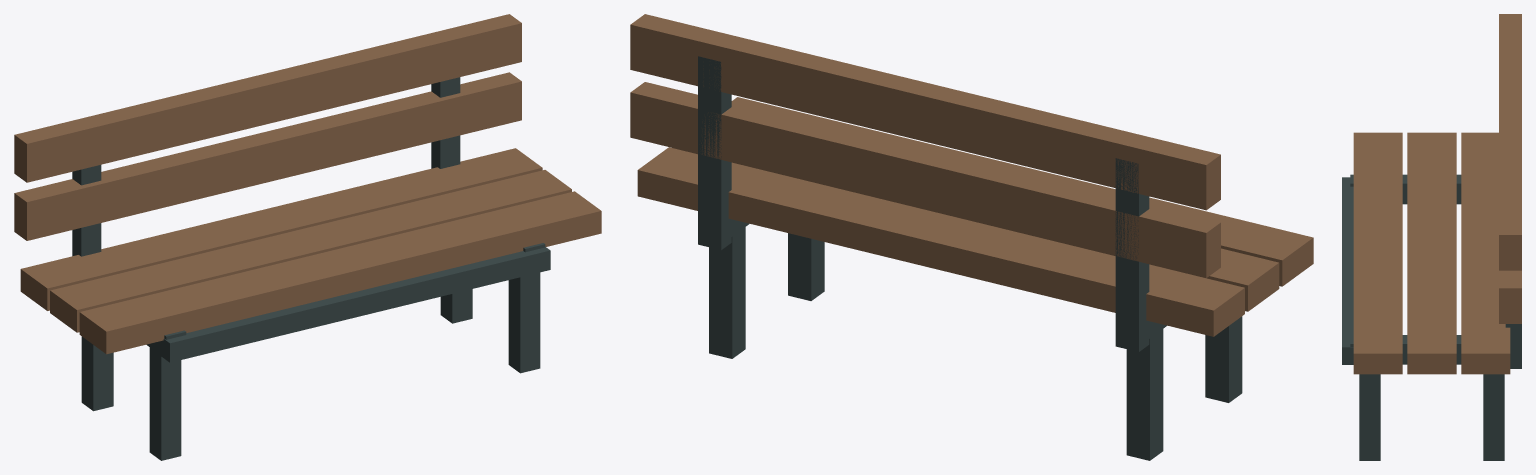
File: bench.glb
The picture shows the model from 3 angles, left to right: view 1: azimuth 30°, elevation 25°; view 2: azimuth 150°, elevation 25°; view 3: azimuth 270°, elevation 25°; orthographic projection. The views are drawn at different scales.
Parts seen in each view (by area): view 1: batch-bench-root-wood, batch-bench-root-dark; view 2: batch-bench-root-wood, batch-bench-root-dark; view 3: batch-bench-root-wood, batch-bench-root-dark.
Part boxes in pixels (box(x1,y1,x2,y2)): batch-bench-root-wood: box(14, 14, 601, 354); batch-bench-root-dark: box(72, 77, 550, 460); batch-bench-root-wood: box(630, 14, 1313, 336); batch-bench-root-dark: box(698, 56, 1242, 460); batch-bench-root-wood: box(1353, 14, 1521, 374); batch-bench-root-dark: box(1342, 174, 1521, 460).
Bounding box in the file's own units: 1.6 × 0.85 × 0.55.
